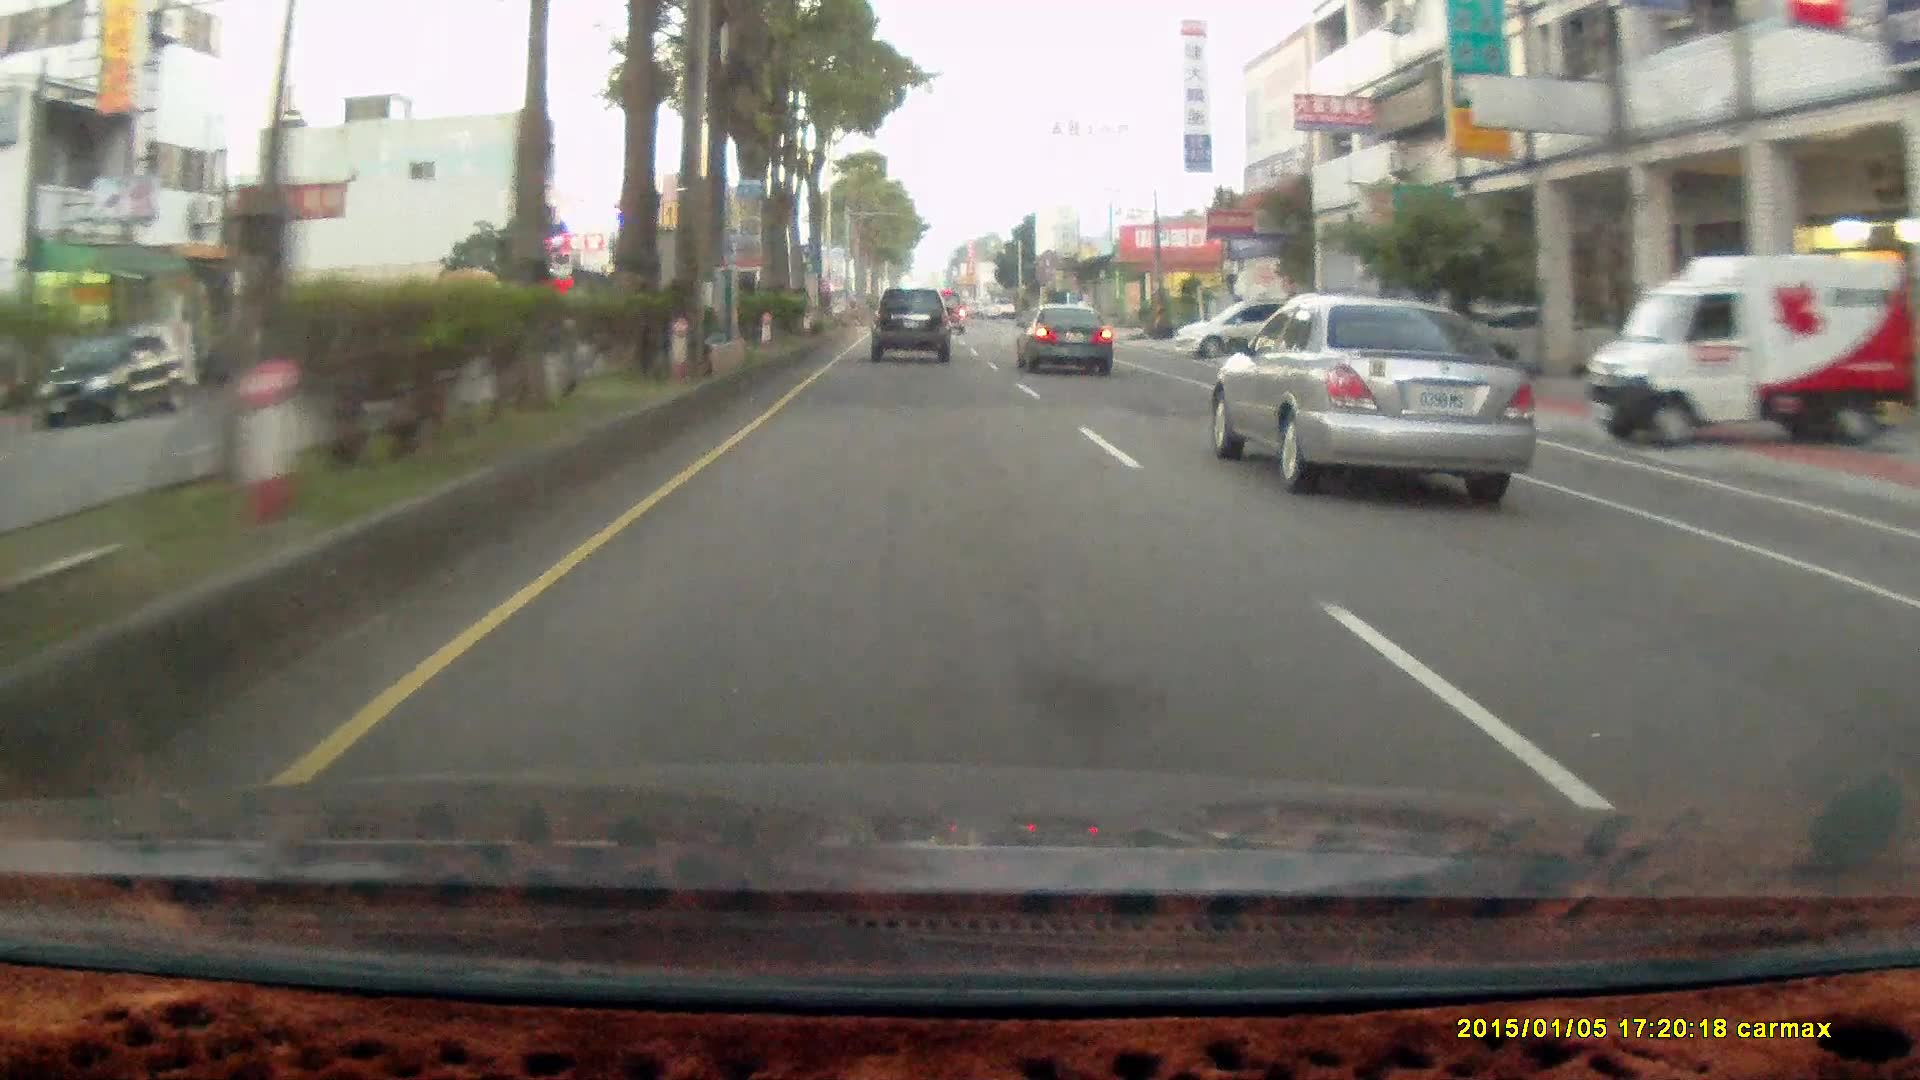vehicle: (1218, 290, 1545, 489), (1589, 251, 1920, 444), (1589, 249, 1919, 443), (32, 327, 202, 430), (1420, 301, 1619, 378), (36, 328, 189, 429), (1280, 285, 1416, 378), (1174, 302, 1328, 367), (1174, 301, 1327, 364), (1015, 301, 1118, 376), (1015, 301, 1113, 375), (872, 287, 955, 364), (869, 284, 949, 359)
